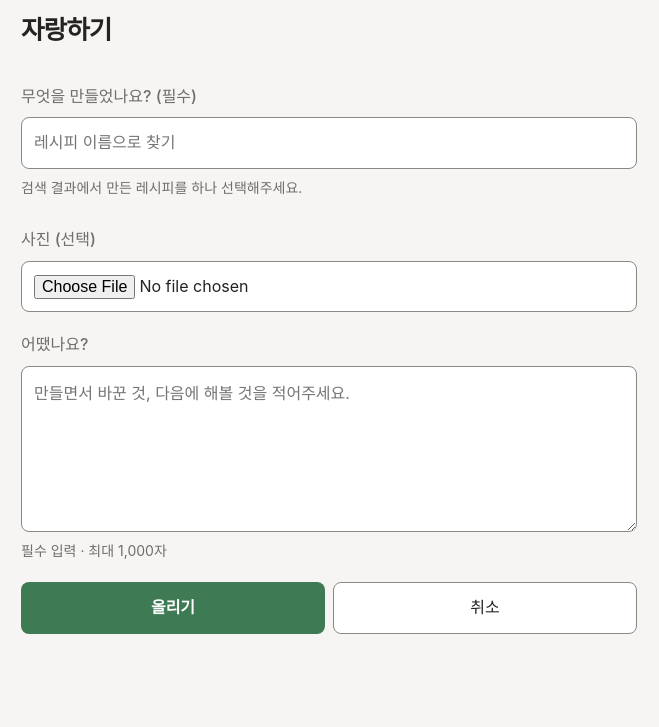
Test: 자랑 글쓰기 › 이전 검색 응답이 늦게 와도 최신 검색 결과를 유지한다
The image size is (659, 727).
Type "두부" into the search field named "레시피 검색".
click(329, 143); type("두부")  # box [21,117,637,169]
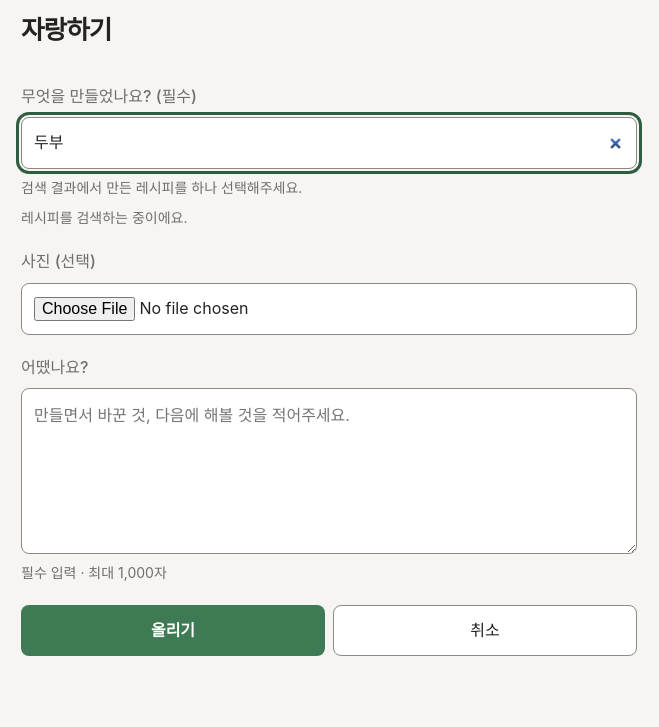
Replace the text in the search field named "레시피 검색" with "양파" at (329, 143), box [21,117,637,169]
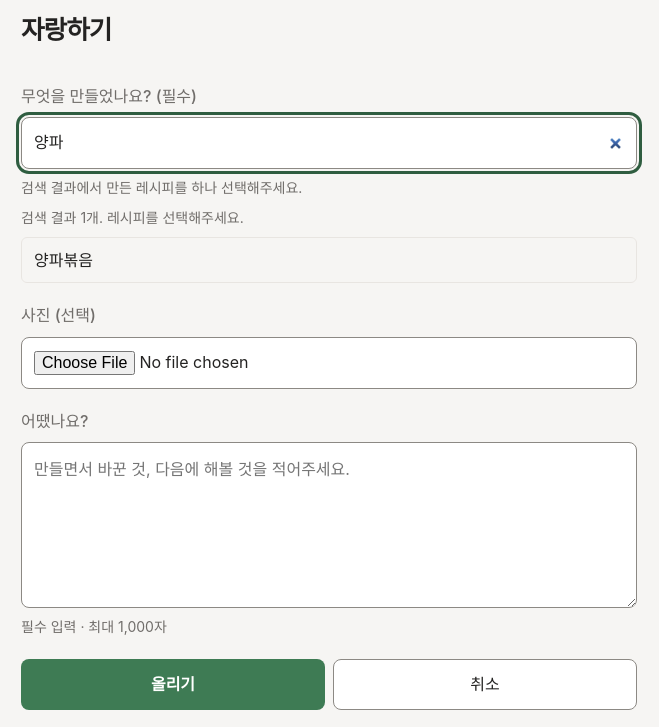
Result: the button "양파볶음" is shown at [22,238,636,282]
